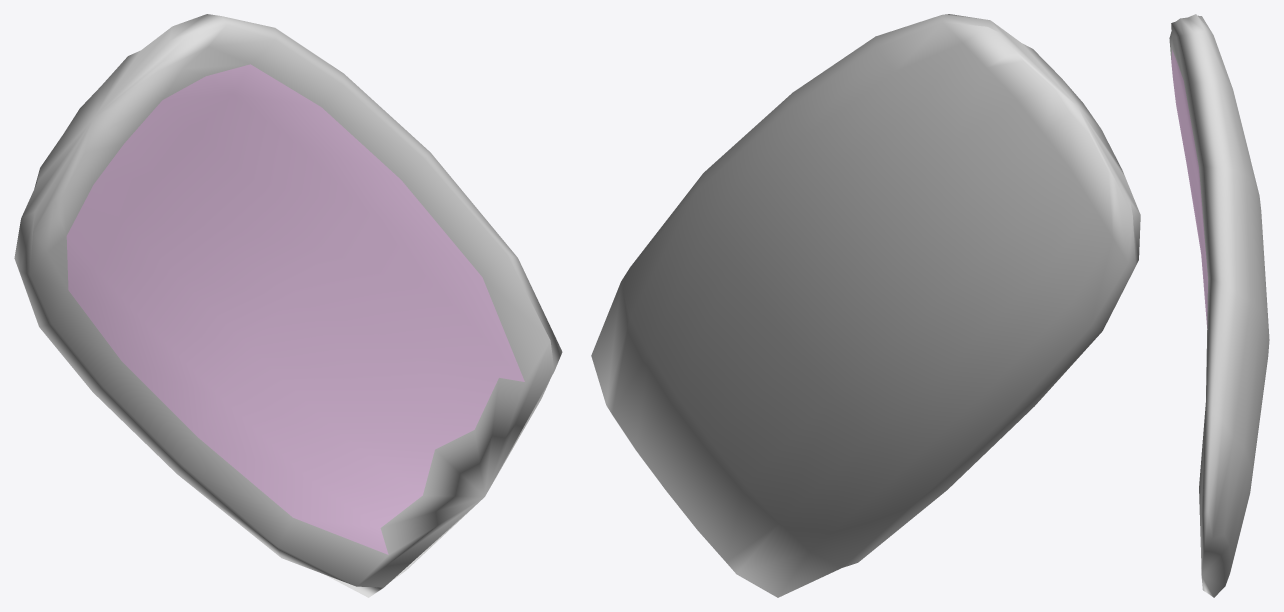
File: Floppy.fbx
3 views of the same model, side by side, from view 1: azimuth 30°, elevation 25°; view 2: azimuth 150°, elevation 25°; view 3: azimuth 270°, elevation 25° (orthographic). The views are drawn at different scales.
Visible parts, largest first — view 1: Floppy; view 2: Floppy; view 3: Floppy.
Part boxes in pixels (bbox=[...]): Floppy: bbox=[14, 14, 562, 597]; Floppy: bbox=[591, 14, 1140, 597]; Floppy: bbox=[1169, 14, 1269, 597].
Bounding box in the file's own units: 0.6796 × 0.7419 × 0.1342.
